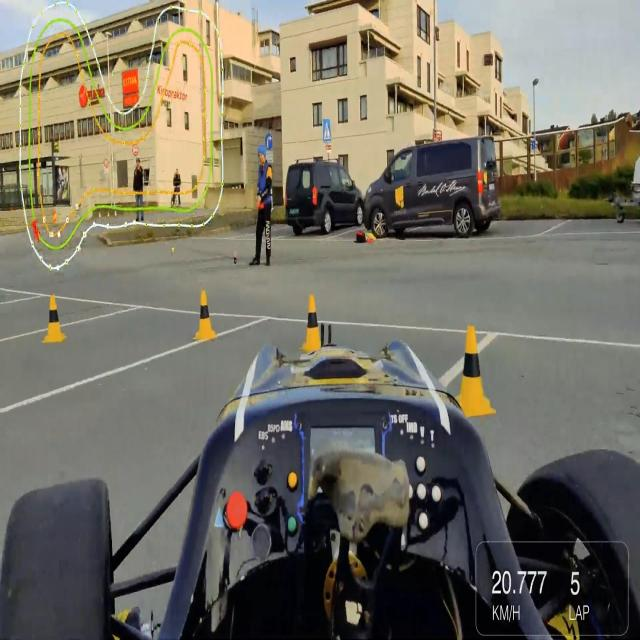yellow_cone: (456, 325, 488, 411), (296, 287, 326, 356), (179, 292, 215, 341), (45, 294, 66, 349)
